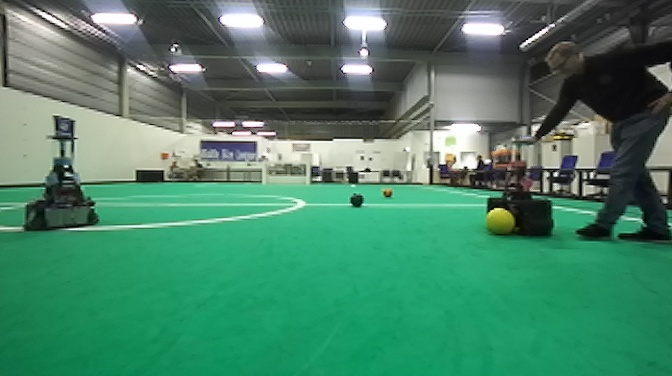ball: (483, 207, 517, 237), (349, 193, 364, 208), (382, 186, 394, 200)
goal: (261, 163, 312, 186)
goalpost: (261, 162, 267, 184), (305, 163, 311, 184)
human_part: (511, 36, 672, 247)
robot: (22, 131, 104, 232), (483, 136, 559, 238)
